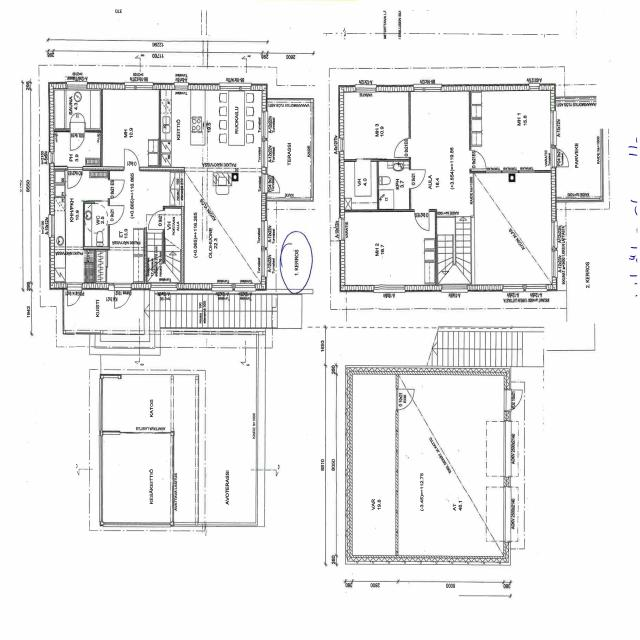door: (504, 389, 528, 411), (115, 284, 131, 313), (396, 388, 416, 411), (261, 174, 283, 194), (551, 148, 571, 168), (68, 284, 82, 311), (67, 166, 82, 189), (107, 205, 125, 224), (408, 169, 426, 188), (124, 148, 139, 170), (468, 150, 486, 168), (394, 138, 411, 157), (148, 210, 164, 229), (108, 179, 124, 198), (414, 210, 429, 230), (70, 130, 84, 150)
